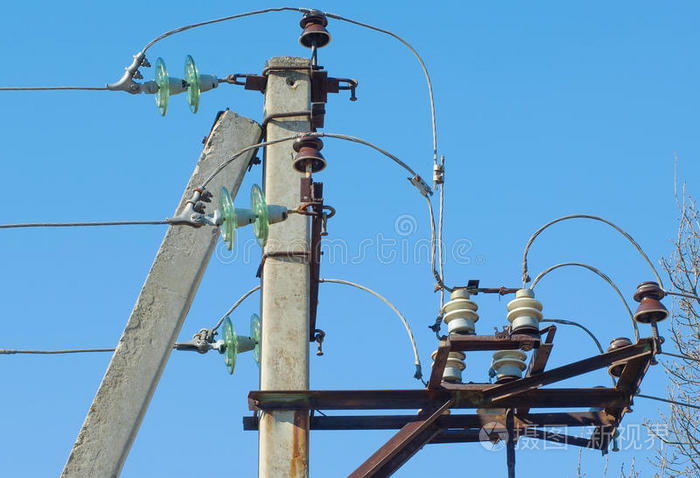insulator: (216, 182, 272, 248), (154, 51, 202, 117), (221, 314, 265, 373)
